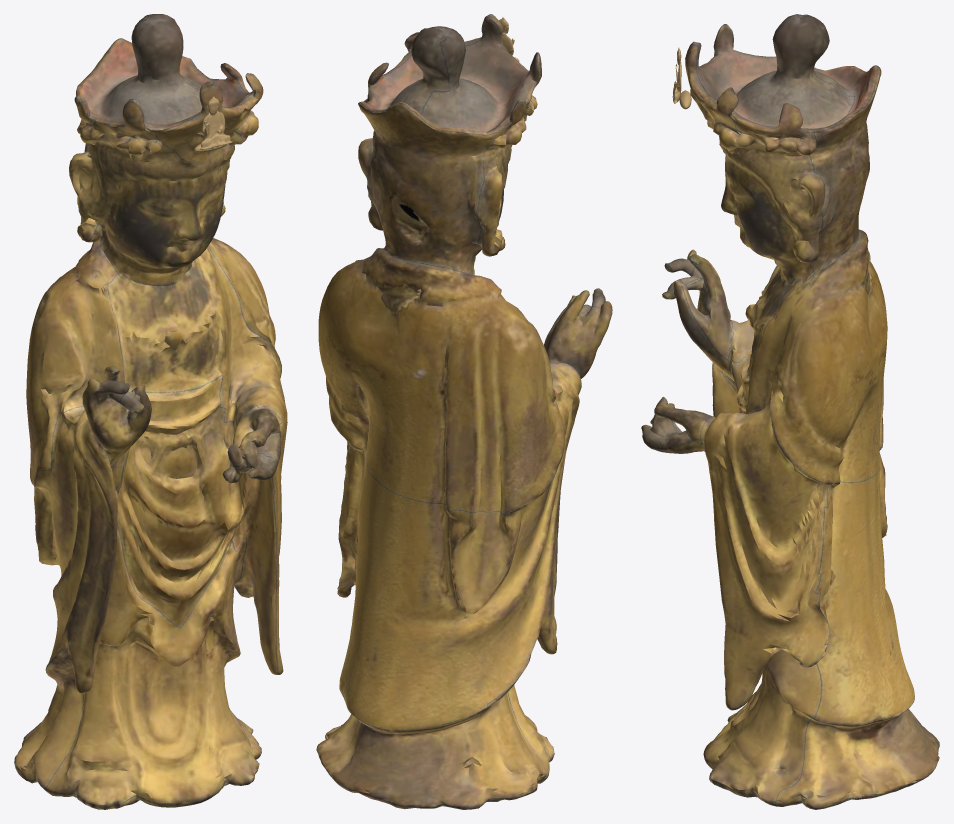
Rendered from avalokitesvara.glb.
The picture shows the model from 3 angles, left to right: view 1: azimuth 30°, elevation 25°; view 2: azimuth 150°, elevation 25°; view 3: azimuth 270°, elevation 25°; orthographic projection. The views are drawn at different scales.
Parts seen in each view (by area): view 1: NMK_Goryeo_companion_interpreted_as_avalokitesvara, Amitabha_crown_relief_huabul; view 2: NMK_Goryeo_companion_interpreted_as_avalokitesvara; view 3: NMK_Goryeo_companion_interpreted_as_avalokitesvara.
Part boxes in pixels (bbox=[...]): NMK_Goryeo_companion_interpreted_as_avalokitesvara: bbox=[14, 14, 287, 809]; Amitabha_crown_relief_huabul: bbox=[199, 96, 232, 150]; NMK_Goryeo_companion_interpreted_as_avalokitesvara: bbox=[316, 14, 612, 809]; NMK_Goryeo_companion_interpreted_as_avalokitesvara: bbox=[641, 14, 939, 809].
Size of the model in its own units: 0.334 by 1 by 0.3612.
Materials: 2 (1 with a texture image).
